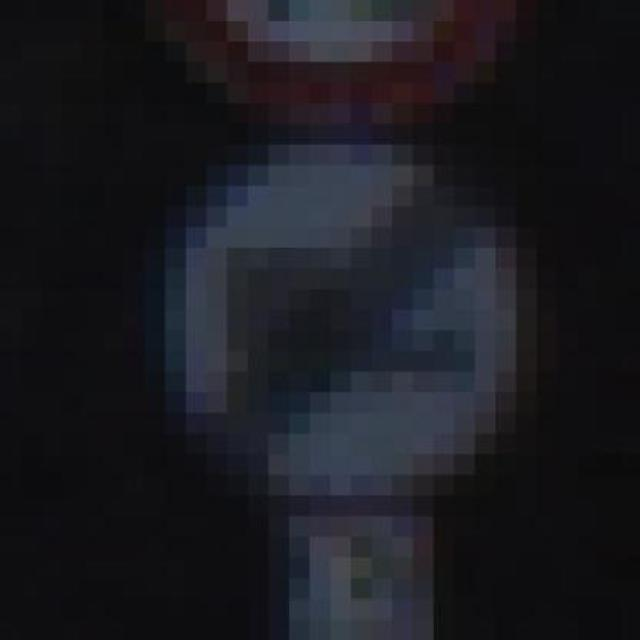Overtaking by trucks is prohibited: (124, 124, 578, 516)
